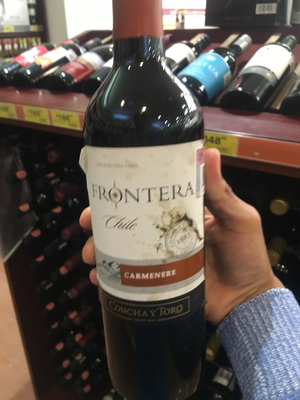frontera carmenere: (75, 5, 229, 389)
